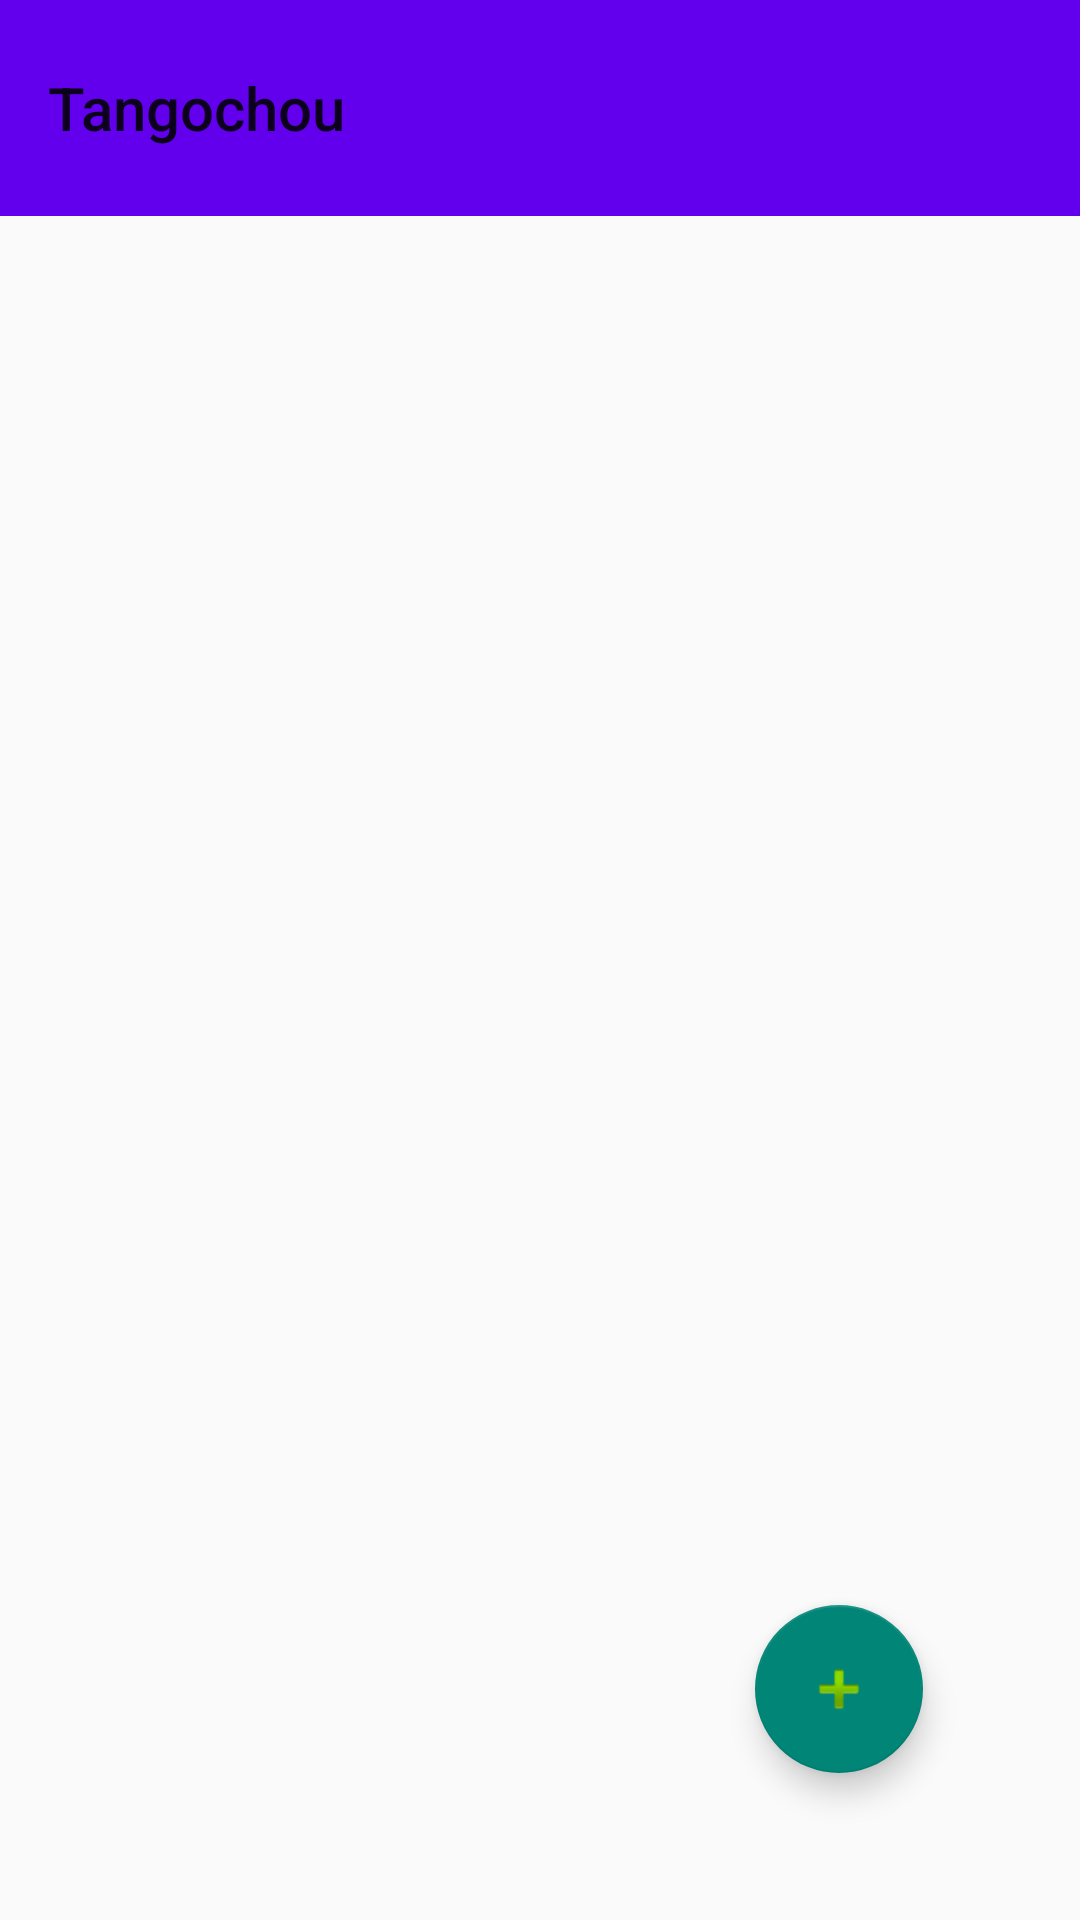

Screen size 1080x1920. Icon name, then its center in pixels as (x,y):
add: (839,1689)
